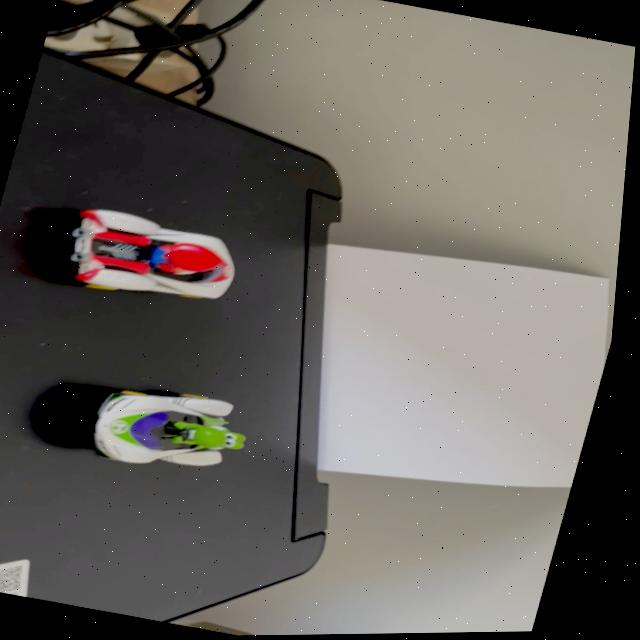mario: (38, 193, 270, 325)
yoshi: (75, 368, 277, 493)
